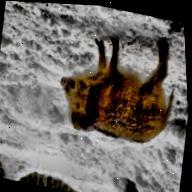boar: (39, 20, 190, 158)
